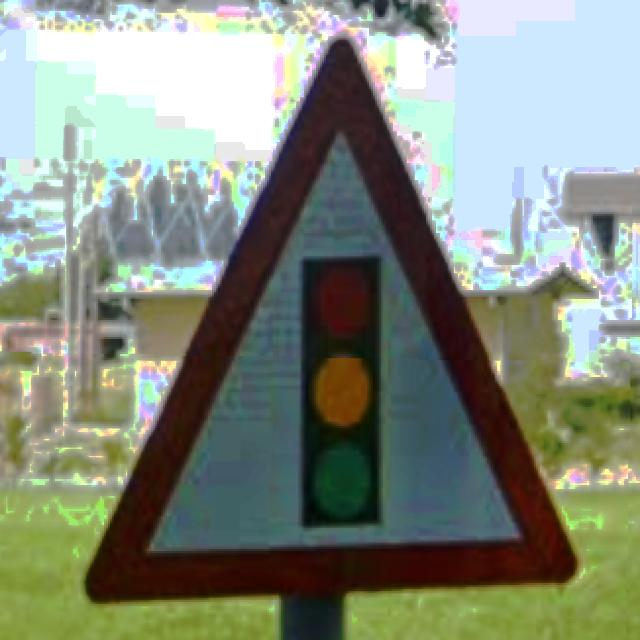signalahead: (84, 38, 577, 600)
